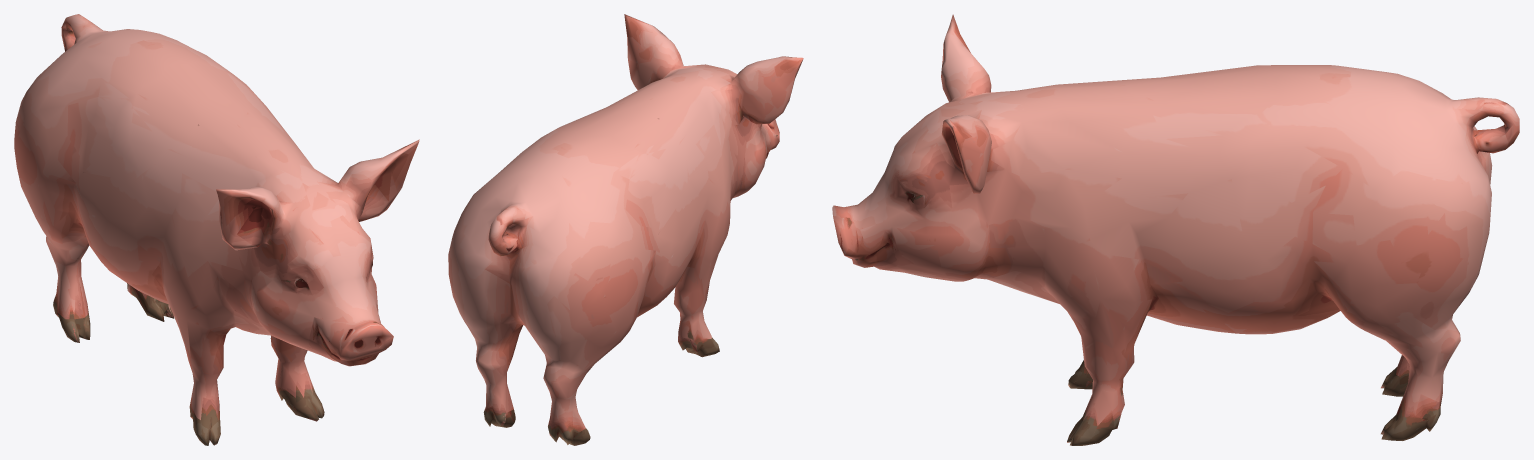
The model's file is pig 1.fbx.
3 renders of one model, left to right at view 1: azimuth 30°, elevation 25°; view 2: azimuth 150°, elevation 25°; view 3: azimuth 270°, elevation 25°, orthographic. The views are drawn at different scales.
Parts seen in each view (by area): view 1: Mesh_0; view 2: Mesh_0; view 3: Mesh_0.
Boxes of the visible parts, box(x1,y1,x2,y2) form: Mesh_0: box(14, 14, 419, 445); Mesh_0: box(448, 14, 803, 445); Mesh_0: box(832, 14, 1519, 445).
Bounding box in the file's own units: 77.21 × 111 × 200.
